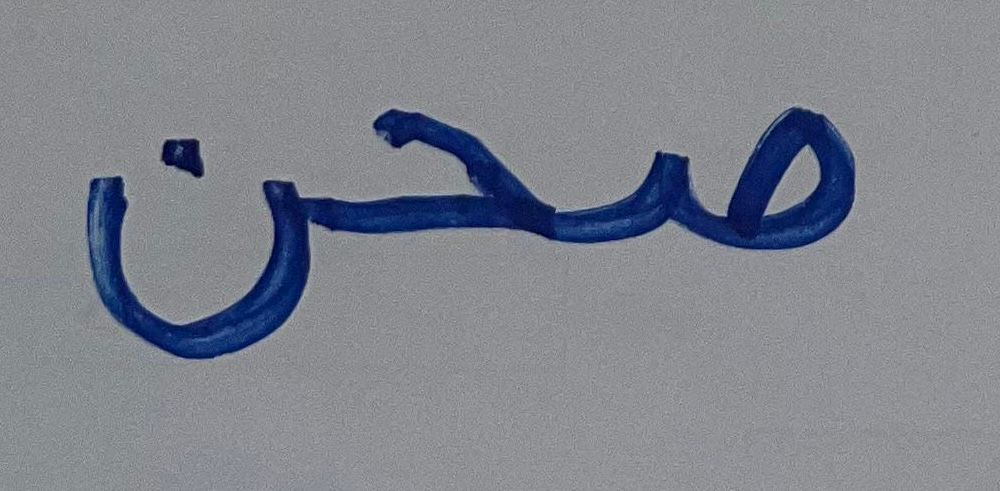hah: (333, 91, 585, 251)
noon: (73, 117, 327, 371)
sad: (589, 86, 884, 275)
